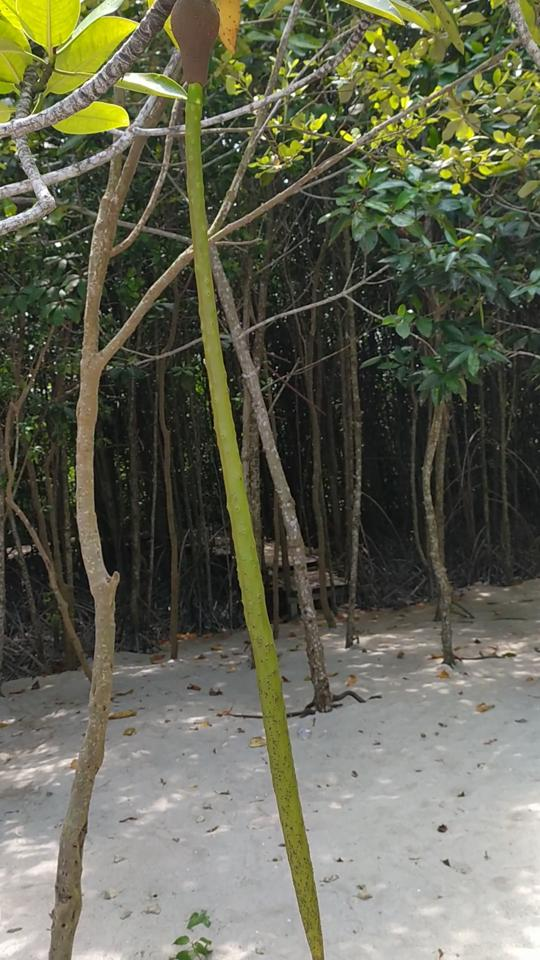mentah: (143, 1, 337, 958)
